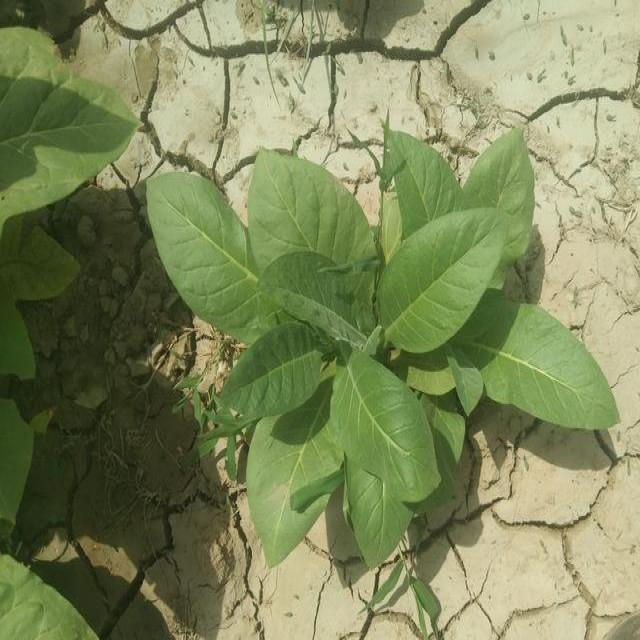crop: (154, 171, 608, 424), (232, 338, 424, 556), (2, 36, 145, 235)
